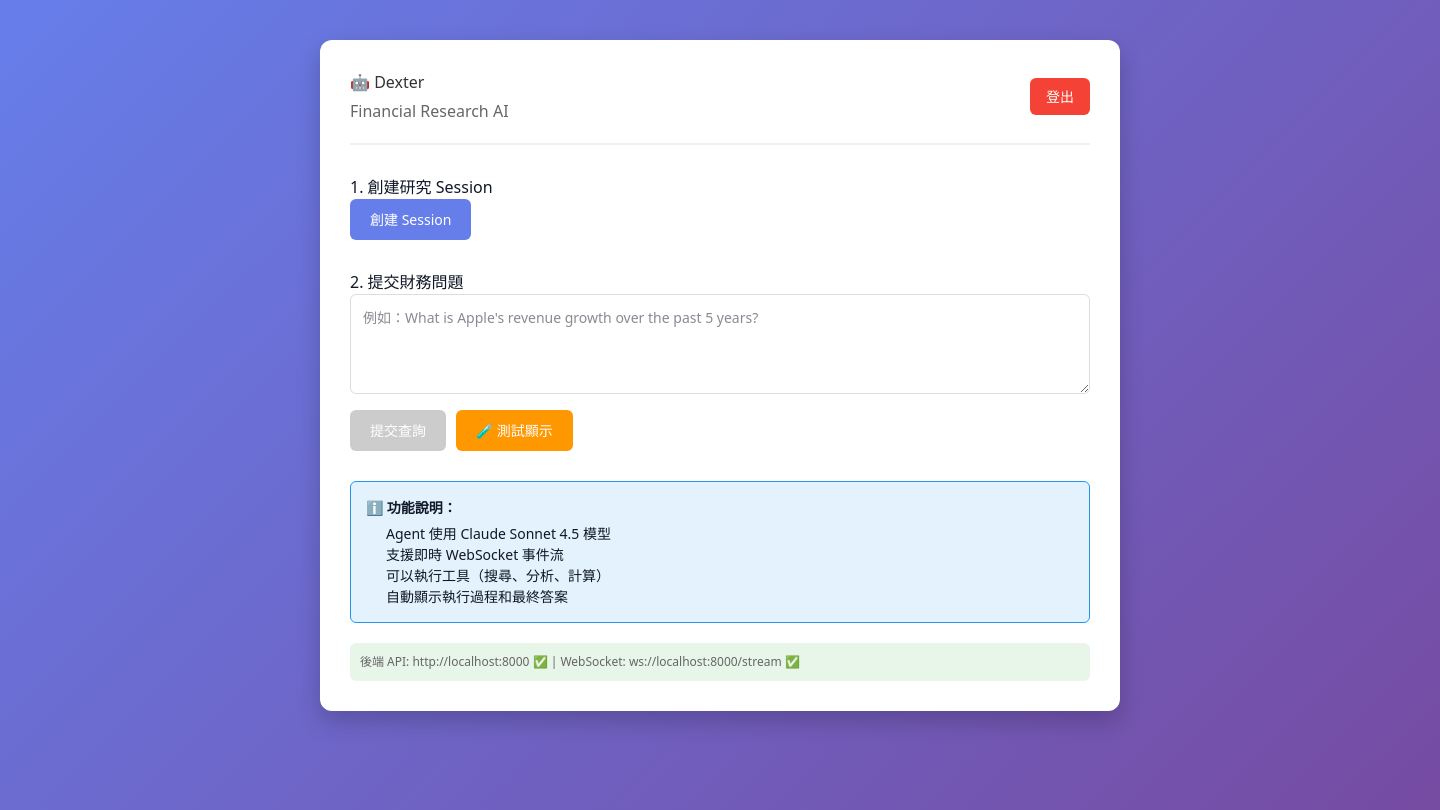
Test: query submission and live results › shows a terminal agent error and releases the loading state
Click the button "創建 Session": (411, 220) [350, 199, 471, 240]
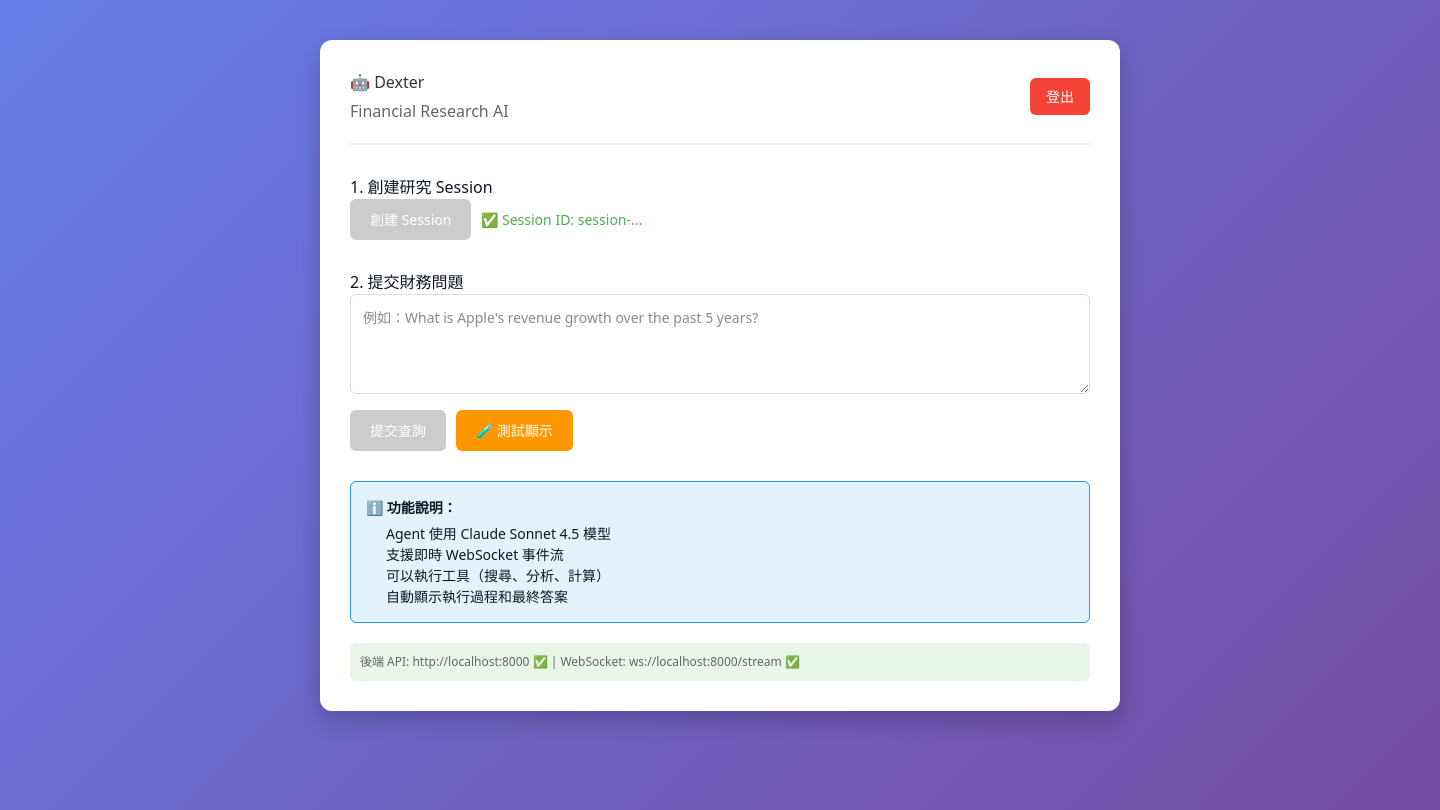
In the text box: (720, 344) [350, 294, 1090, 394], type "Summarize revenue"
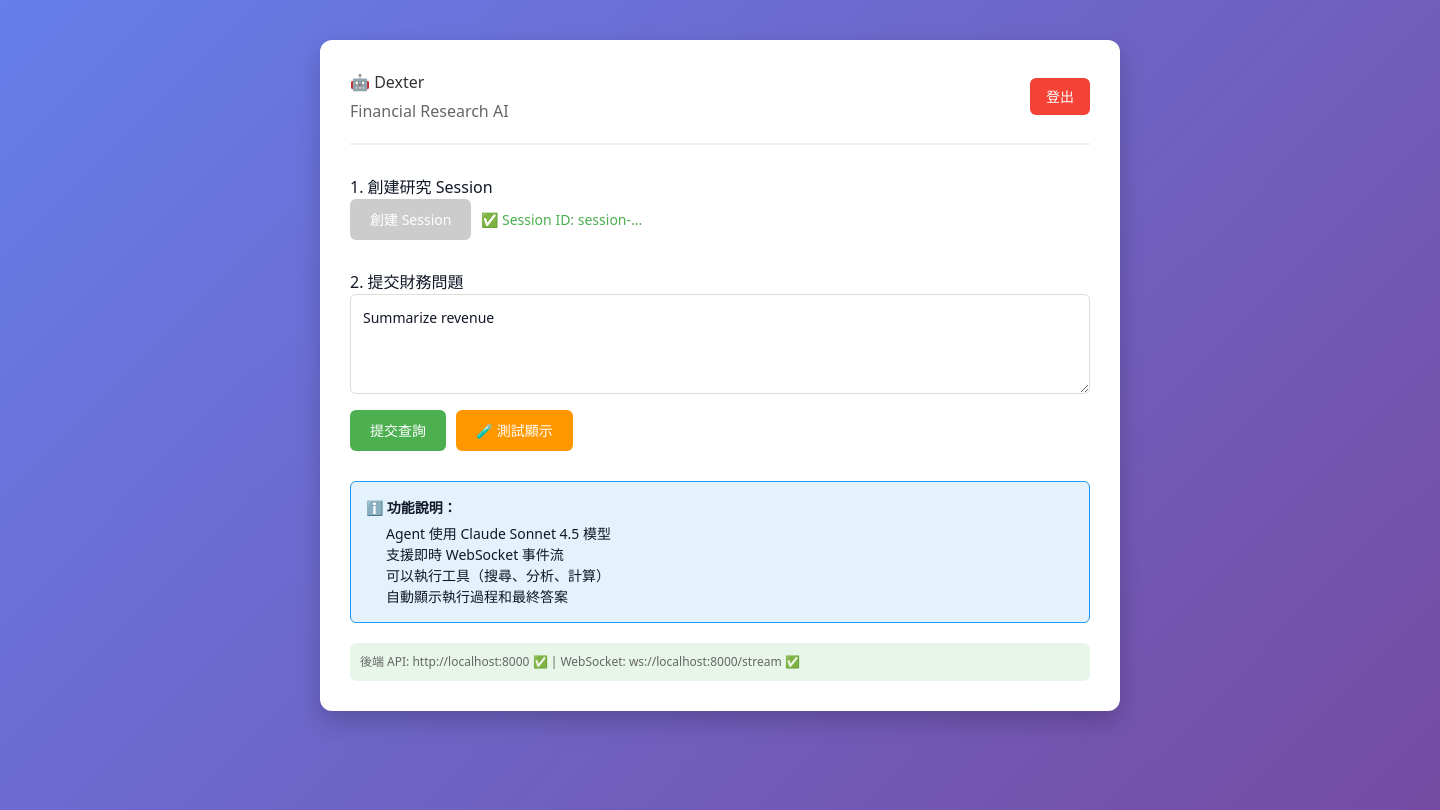
Click the button "提交查詢": (398, 430) [350, 410, 446, 451]
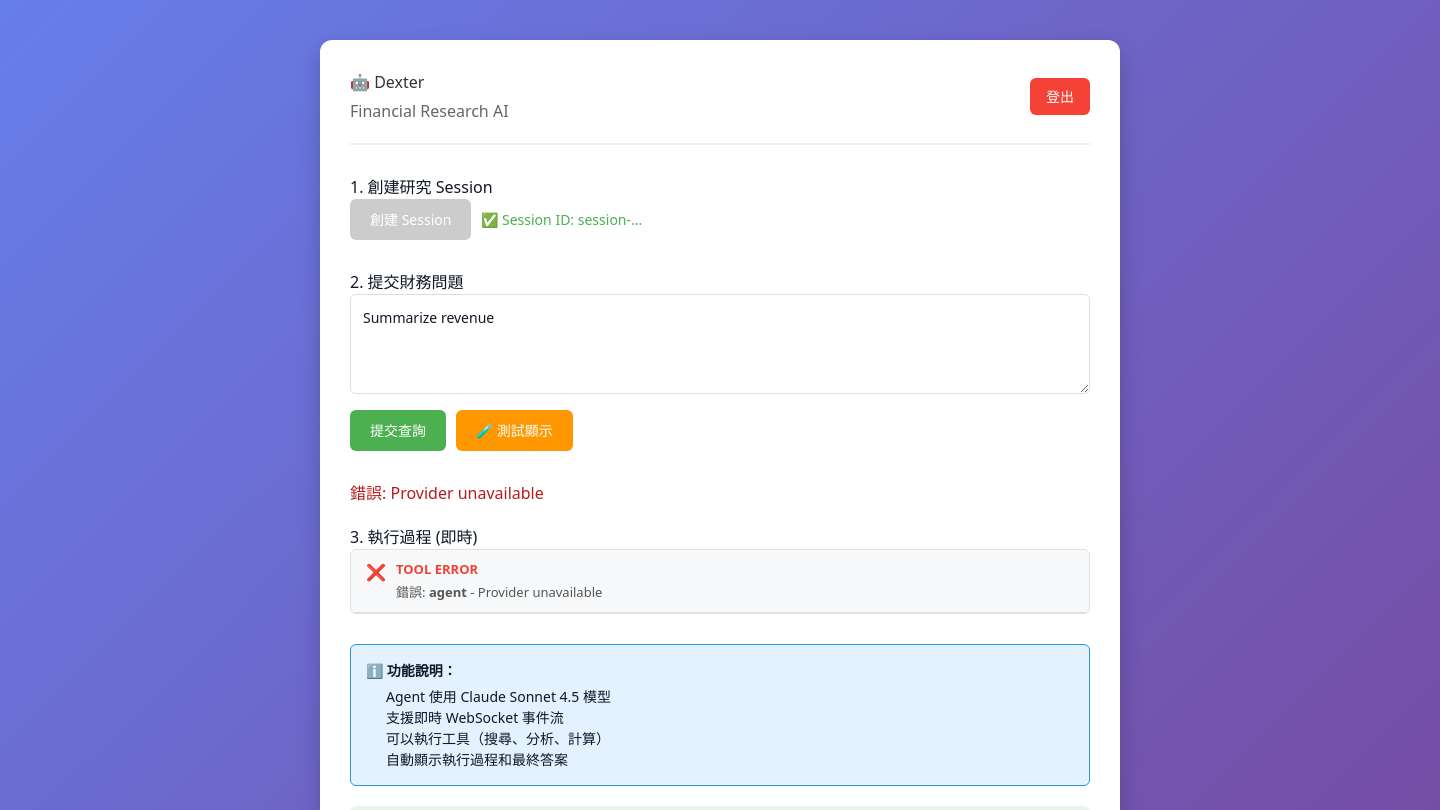
Expected: the button "提交查詢" is enabled, [350, 410, 446, 451]
Expected: the message shows "Provider unavailable", [390, 482, 544, 504]
